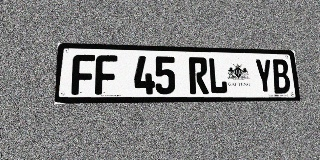4: (134, 56, 155, 94)
5: (155, 56, 176, 94)
B: (271, 59, 291, 94)
F: (71, 54, 95, 95), (95, 55, 117, 95)
L: (208, 58, 228, 94)
R: (188, 57, 209, 94)
Y: (254, 59, 274, 94)
